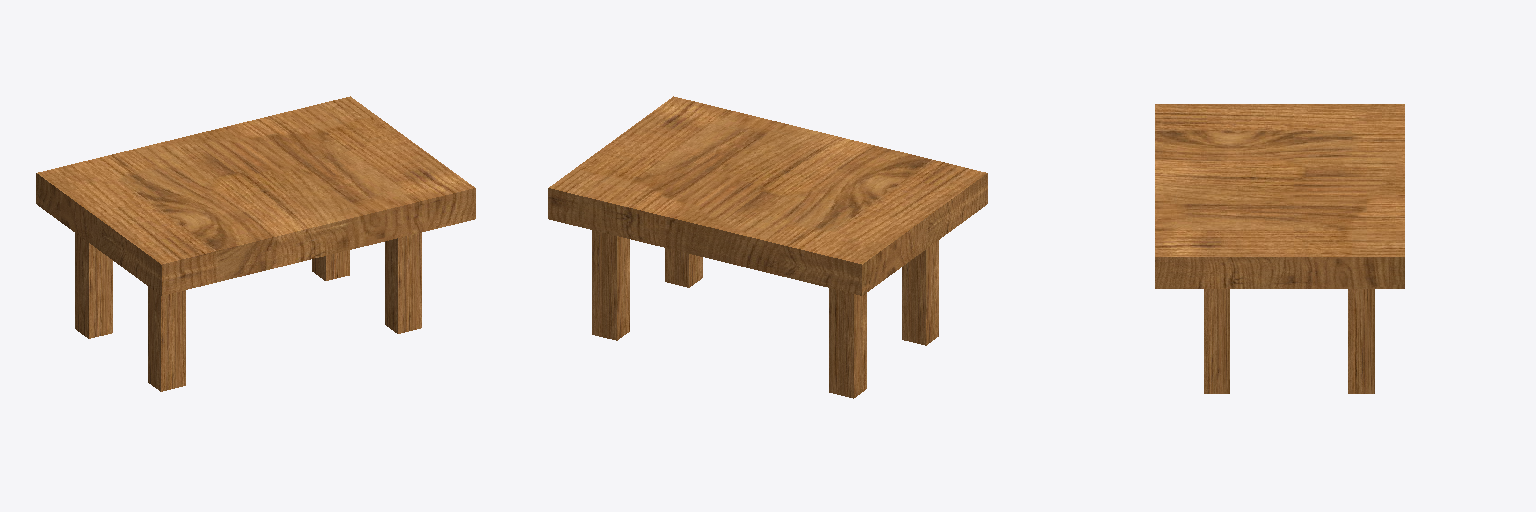
3 renders of one model, left to right at view 1: azimuth 30°, elevation 25°; view 2: azimuth 150°, elevation 25°; view 3: azimuth 270°, elevation 25°, orthographic.
Parts seen in each view (by area): view 1: polySurface19; view 2: polySurface19; view 3: polySurface19.
Part boxes in pixels (left/top/right/bottom): polySurface19: left=36, top=96, right=475, bottom=391; polySurface19: left=548, top=96, right=987, bottom=398; polySurface19: left=1155, top=104, right=1404, bottom=393.
Bounding box in the file's own units: 13.69 × 6.29 × 9.45.
Materials: 1 (1 with a texture image).